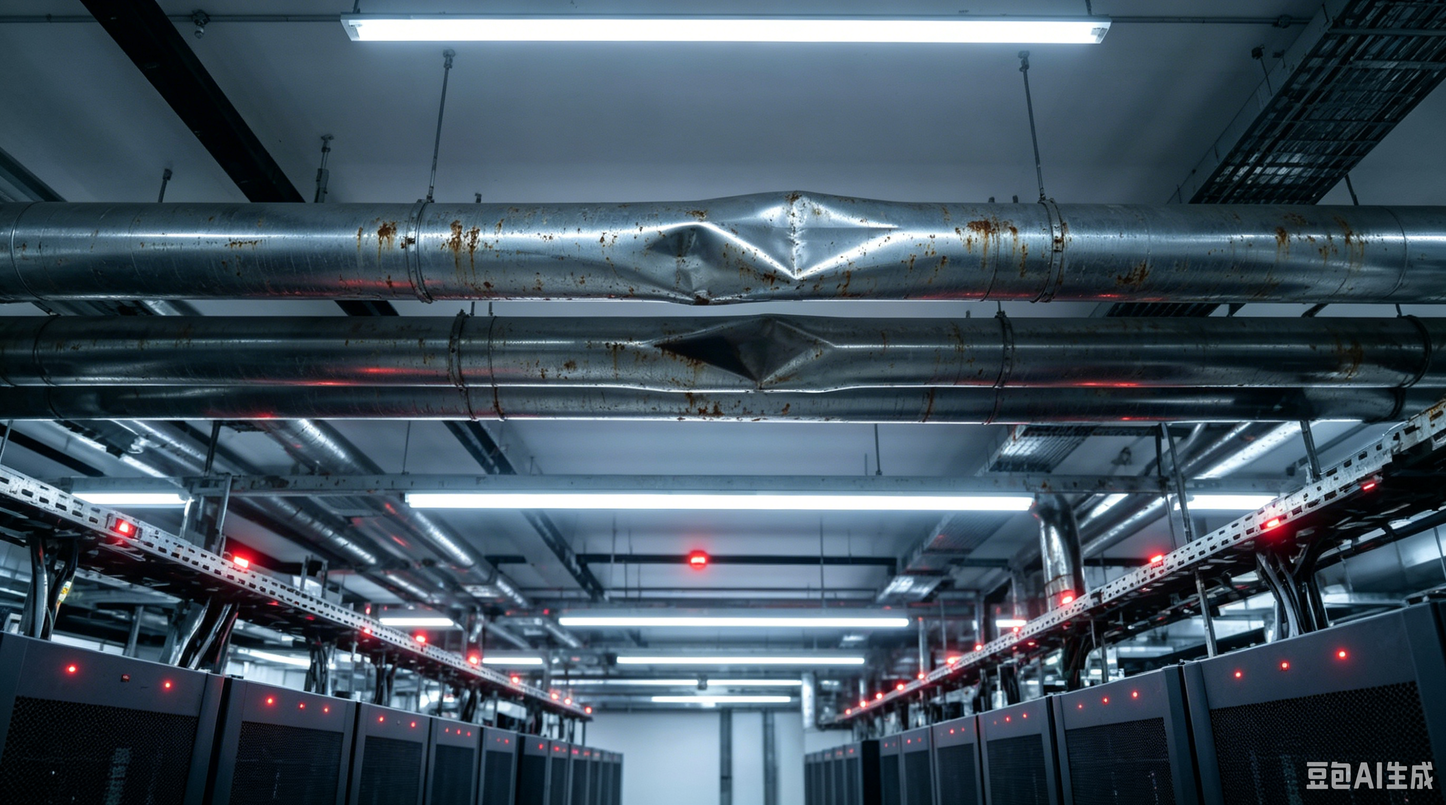Leakage: (647, 312, 864, 405), (728, 188, 915, 281), (608, 215, 750, 291)
